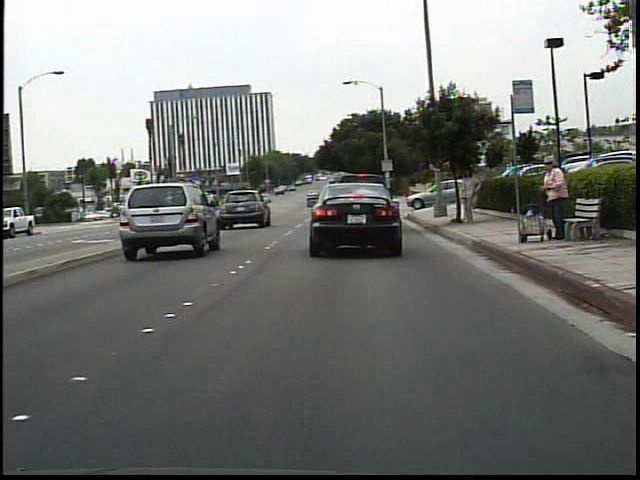person: (536, 151, 577, 246), (457, 163, 484, 226)
